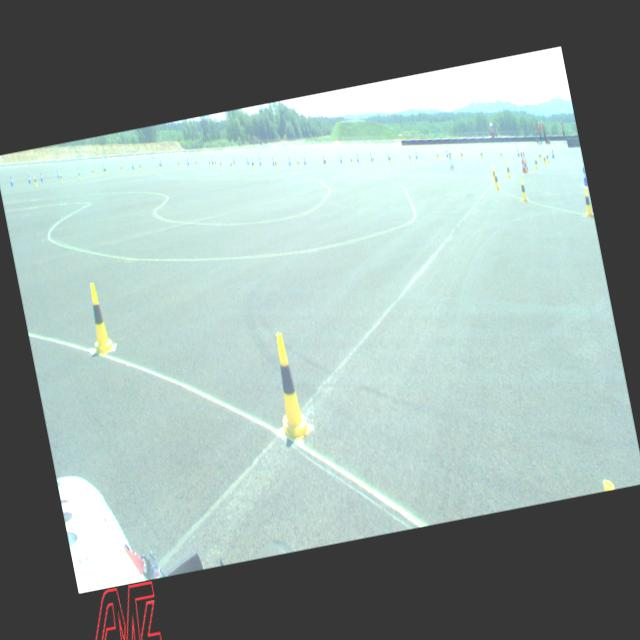blue_cone: (580, 168, 588, 185), (369, 153, 374, 162), (40, 172, 44, 182), (338, 154, 342, 164), (550, 149, 554, 158), (10, 177, 14, 186), (27, 174, 31, 183), (258, 157, 262, 166), (516, 148, 520, 156), (56, 170, 60, 178), (414, 151, 418, 159), (445, 150, 448, 158), (356, 154, 359, 162), (103, 164, 106, 172), (288, 157, 291, 165), (322, 156, 325, 164), (386, 152, 389, 160), (211, 157, 214, 164), (232, 157, 235, 164), (247, 158, 250, 165), (187, 160, 190, 166), (132, 162, 134, 170), (160, 160, 162, 168), (272, 157, 274, 165), (304, 156, 306, 164), (252, 158, 254, 165)
large_orange_cone: (518, 150, 527, 173), (522, 150, 530, 173)
yellow_cone: (262, 330, 314, 444), (82, 281, 114, 355), (581, 188, 594, 219), (518, 178, 529, 202), (492, 170, 501, 190), (505, 163, 512, 179), (491, 166, 496, 183), (533, 156, 539, 169), (542, 154, 548, 166), (32, 175, 38, 187), (524, 160, 528, 173), (459, 150, 464, 160), (349, 156, 354, 166), (479, 150, 484, 159), (546, 152, 550, 162), (499, 150, 503, 160), (323, 158, 328, 166), (296, 158, 300, 168), (274, 158, 278, 168), (251, 160, 255, 170), (538, 152, 542, 161), (436, 151, 440, 160), (408, 153, 412, 162), (388, 154, 392, 163), (229, 160, 233, 169), (208, 158, 212, 167), (60, 173, 64, 182), (78, 170, 82, 179), (372, 156, 376, 164), (219, 160, 223, 168), (158, 161, 162, 169), (214, 160, 217, 168), (92, 168, 95, 176), (120, 164, 123, 172), (139, 163, 142, 171), (195, 160, 198, 167), (104, 168, 107, 174), (178, 160, 180, 168)
